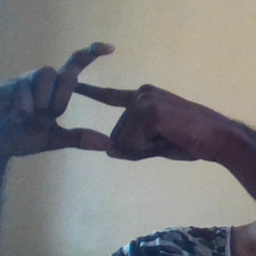E: (47, 37, 147, 152)
